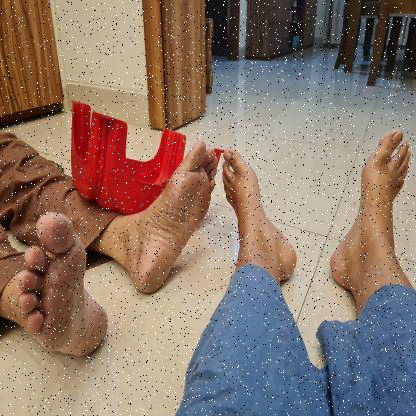leg: (96, 134, 224, 298), (0, 205, 114, 361), (326, 124, 416, 312), (219, 147, 302, 285)
